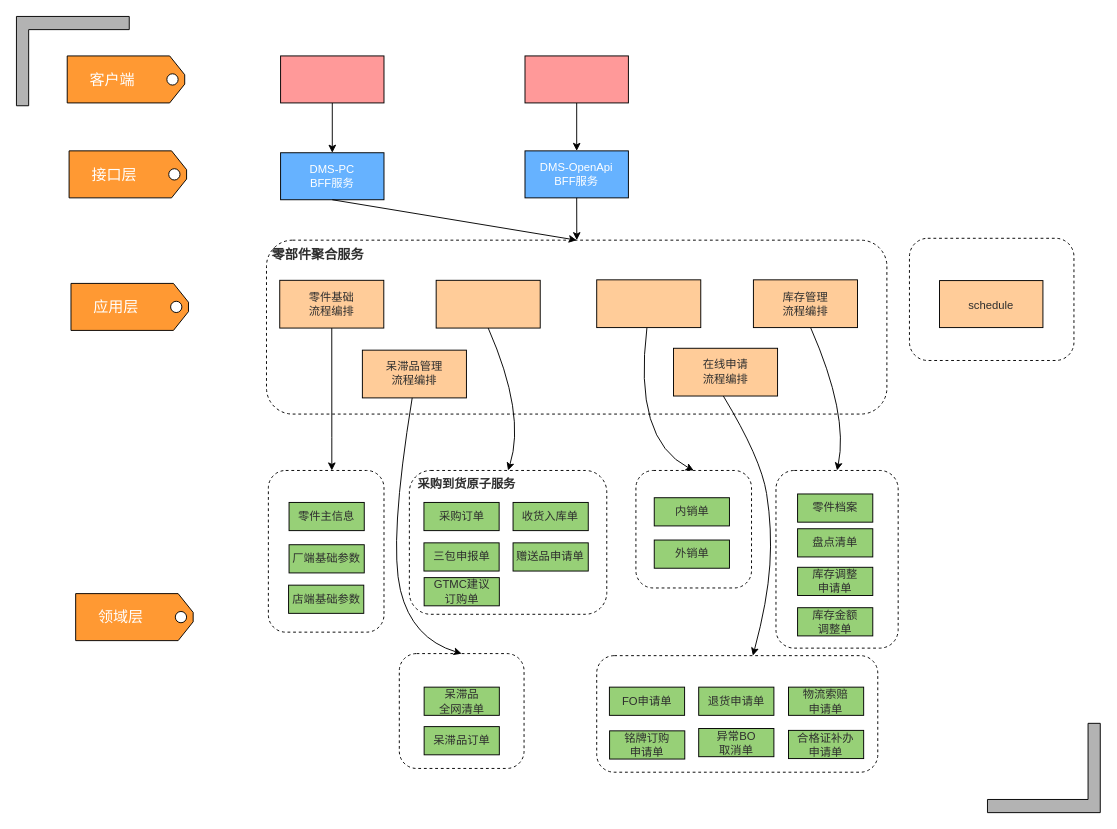
The diagram is 1117 pixels wide and 829 high, and some of its shapes have lost their labels. The shapes that lost their labels are listed below. From the top down, each one's box as (x1, y1, x2, y2) in pixels, then its label:
(280, 55, 384, 103): DMS-PC
(524, 55, 628, 103): 外部系统
(435, 279, 540, 328): 采购到货 流程编排
(596, 279, 701, 328): 零件销售 流程编排
(909, 237, 1074, 360): 零部件定时任务
(635, 470, 752, 588): 零件销售原子服务
(267, 470, 384, 632): 零件基础原子服务
(775, 470, 898, 648): 库存管理原子服务
(398, 653, 524, 768): 呆滞品管理原子服务
(596, 655, 878, 772): 在线申请原子服务
